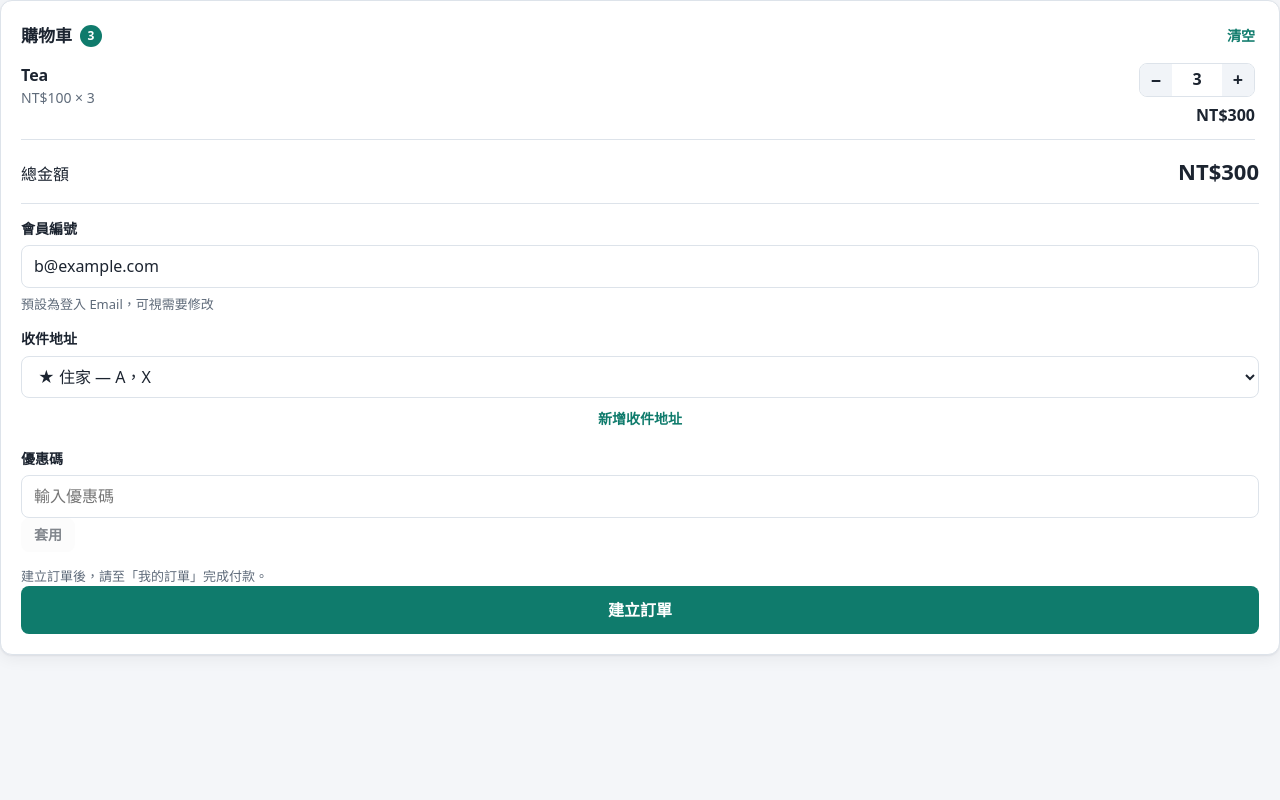
it: CartPanel coupon › applies a coupon, shows the priced result and records the code for checkout
The image size is (1280, 800).
Type "save10" into the field with id "coupon-code".
click(640, 497); type("save10")  # box [21, 475, 1259, 518]
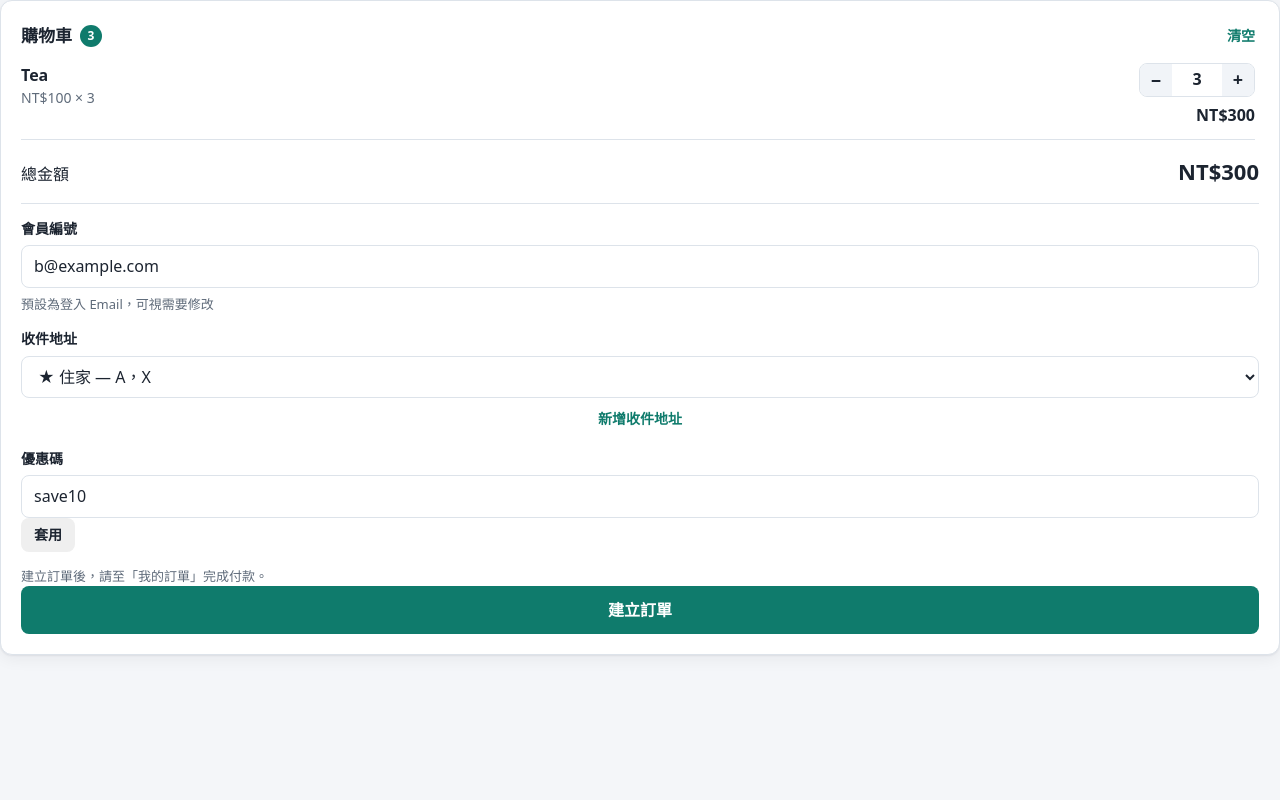
Click the button "套用".
click(48, 535)  # box [21, 518, 75, 552]
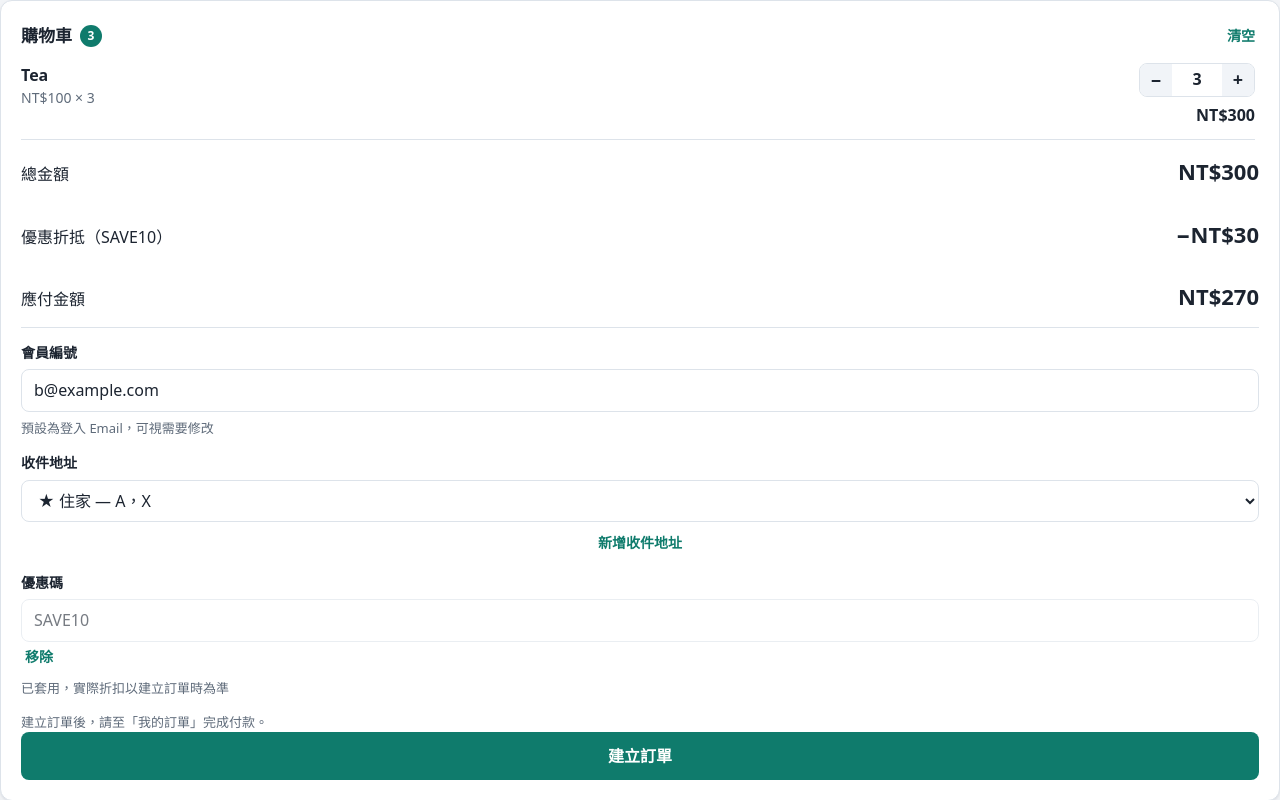
Expected: the text with test id "cart-discount" shows "30", [1176, 219, 1259, 249]
Expected: the text with test id "cart-payable" shows "270", [1178, 281, 1259, 311]
Expected: the field with id "coupon-code" is disabled, [21, 600, 1259, 642]
